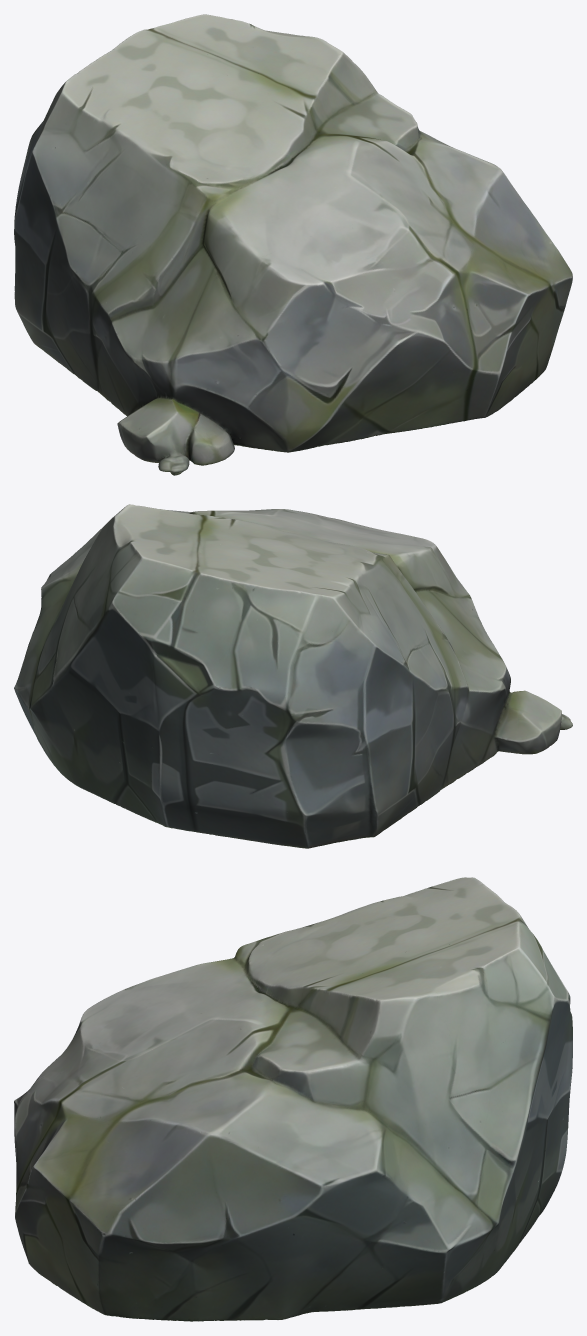
Rendered from Rock.glb.
The picture shows the model from 3 angles, top to bottom: view 1: azimuth 30°, elevation 25°; view 2: azimuth 150°, elevation 25°; view 3: azimuth 270°, elevation 25°; orthographic projection. The views are drawn at different scales.
Size of the model in its own units: 1.99 by 1.14 by 2.
1 material, 1 textured.
